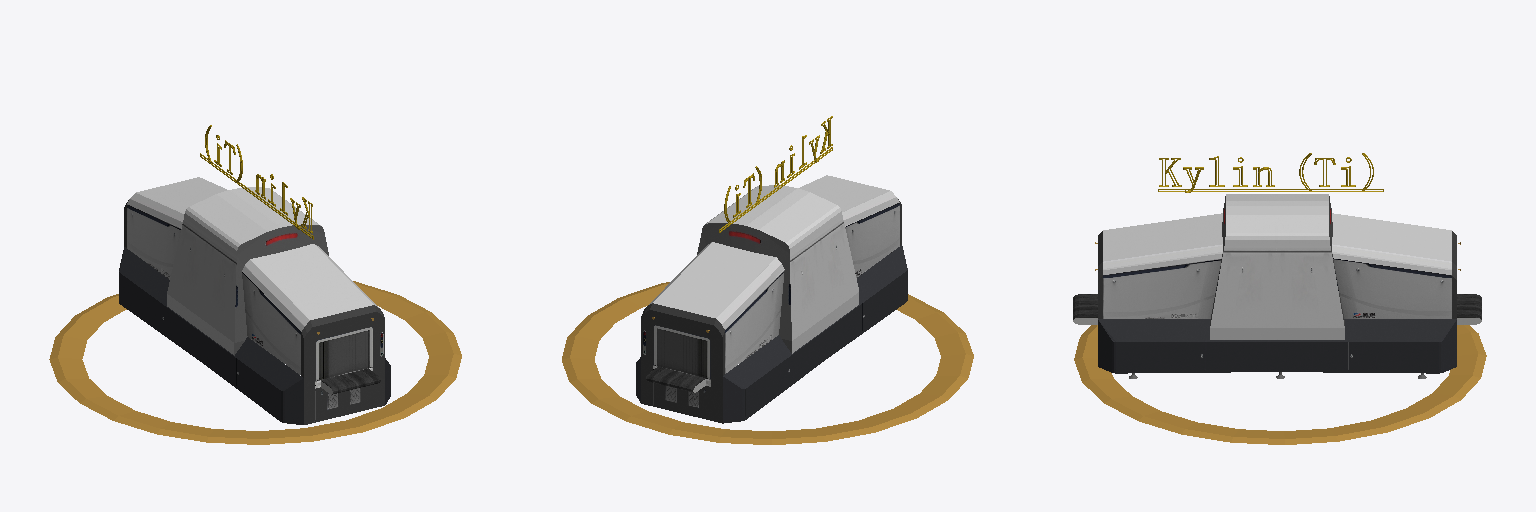
The picture shows the model from 3 angles: view 1: azimuth 30°, elevation 25°; view 2: azimuth 150°, elevation 25°; view 3: azimuth 270°, elevation 25°; orthographic projection.
Visible parts, largest first — view 1: shell, statusLamp, Text002; view 2: shell, statusLamp, Text002; view 3: shell, statusLamp, Text002.
Part boxes in pixels (x1,y1,x2,y2): shell: (119,177,390,424); statusLamp: (49,281,461,444); Text002: (200,125,313,239); shell: (636,175,907,423); statusLamp: (562,282,973,444); Text002: (719,116,832,232); shell: (1073,194,1481,373); statusLamp: (1074,325,1486,444); Text002: (1158,153,1383,192).
Size of the model in its own units: 572 by 312 by 573.
6 materials, 2 textured.